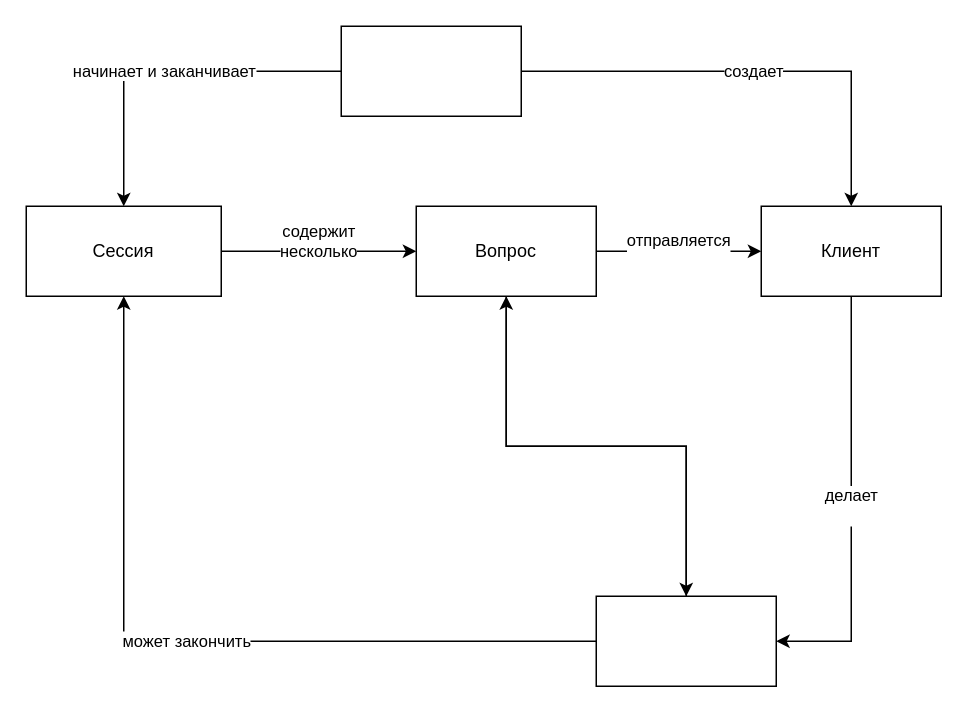
Image size: 968x713. Some labels were removed from this diagram. The box of each missing label's shape, as (x1, y1, x2, y2) in pixels:
Выбор: (595, 595, 776, 686)
Юзер (психолог): (340, 25, 521, 116)
